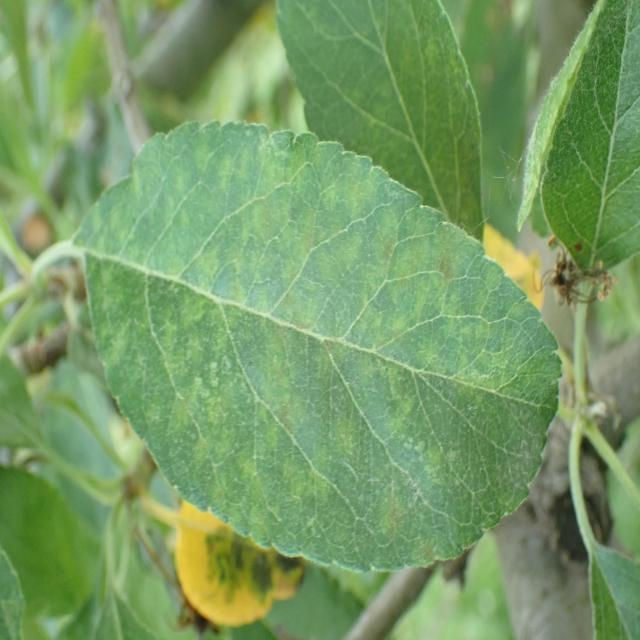scab: (102, 161, 522, 555)
